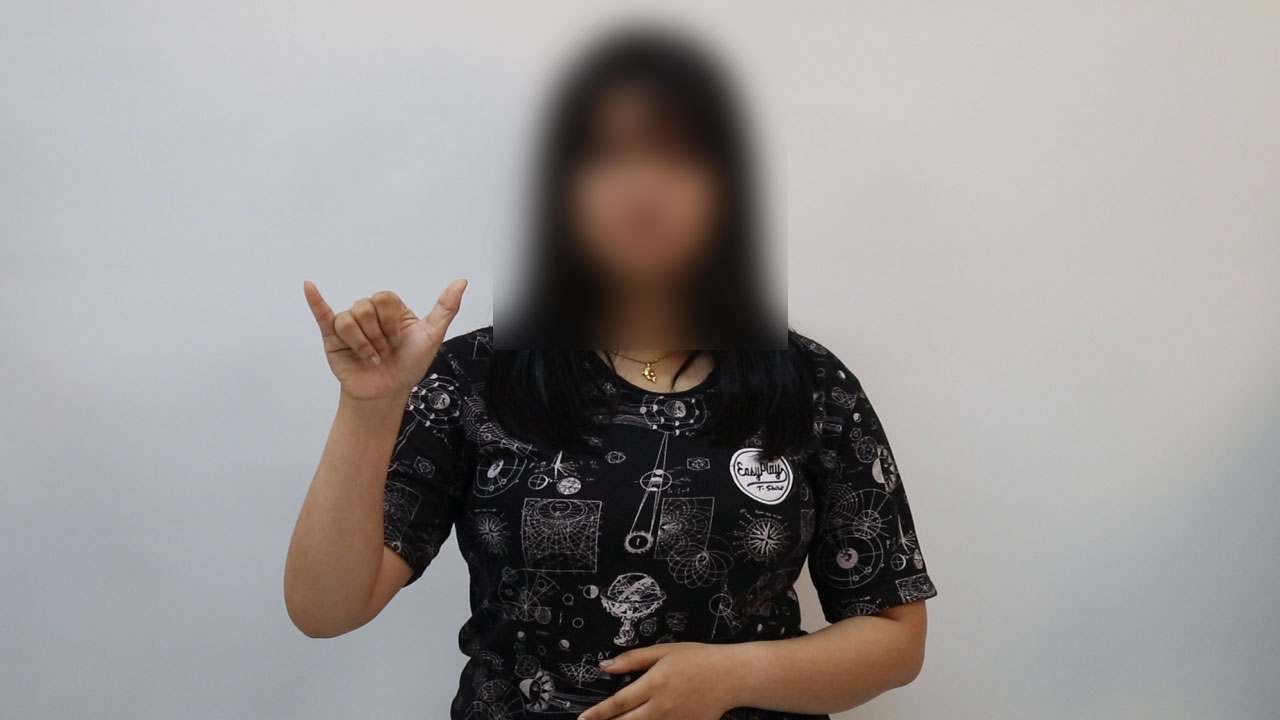yor: (287, 264, 481, 413)
